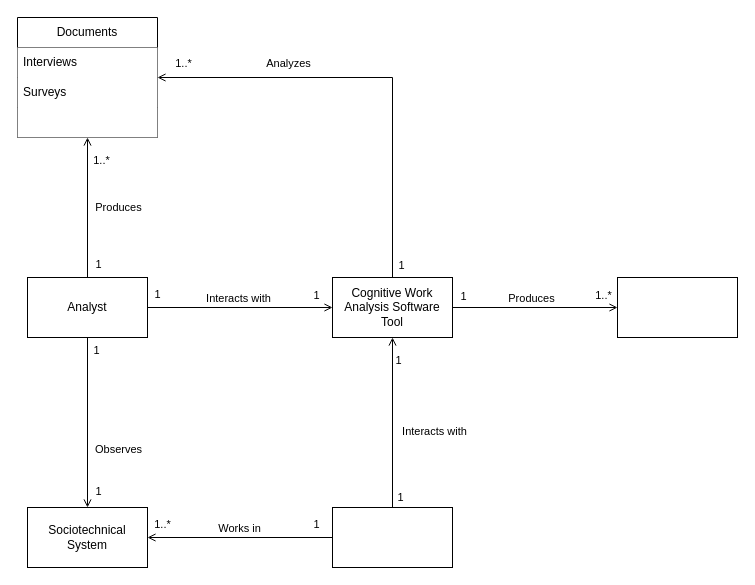
Image size: 755x585. Some labels were removed from this diagram. The shapes that lost their labels are listed below. From the top down, each one's centre as x and y in pixels, then its label:
At pixel 87 122: "Narratives".
At pixel 677 307: "Artifacts".
At pixel 392 537: "Domain Expert".
